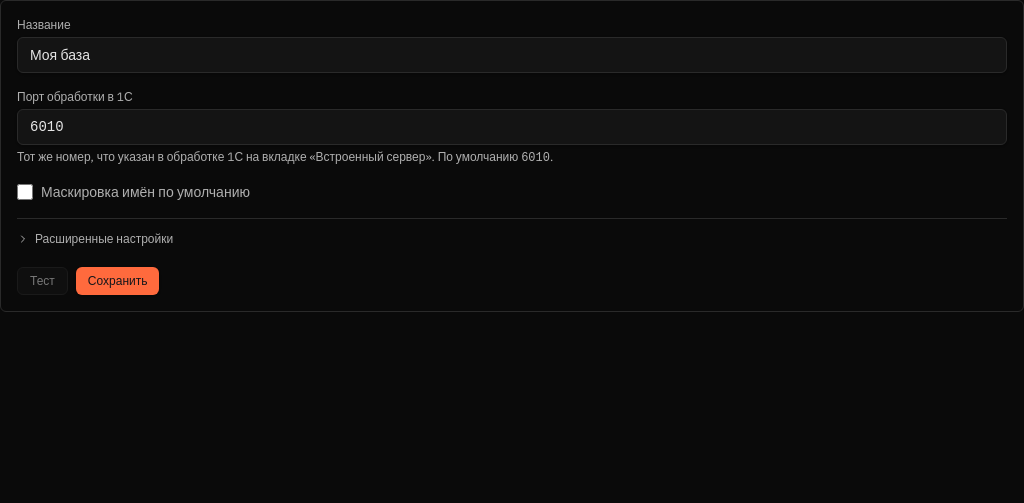
Scenario: MCPConnectionForm › рендерит дефолтную форму с портом 6010 и embedded по умолчанию
Expected: the field with placeholder "Моя база" below "Название" is shown, [17,37,1007,73]
Expected: the field with test id "port-input" holds "6010", [17,109,1007,145]
Click the button "Расширенные настройки": (95, 239) [17,231,173,247]
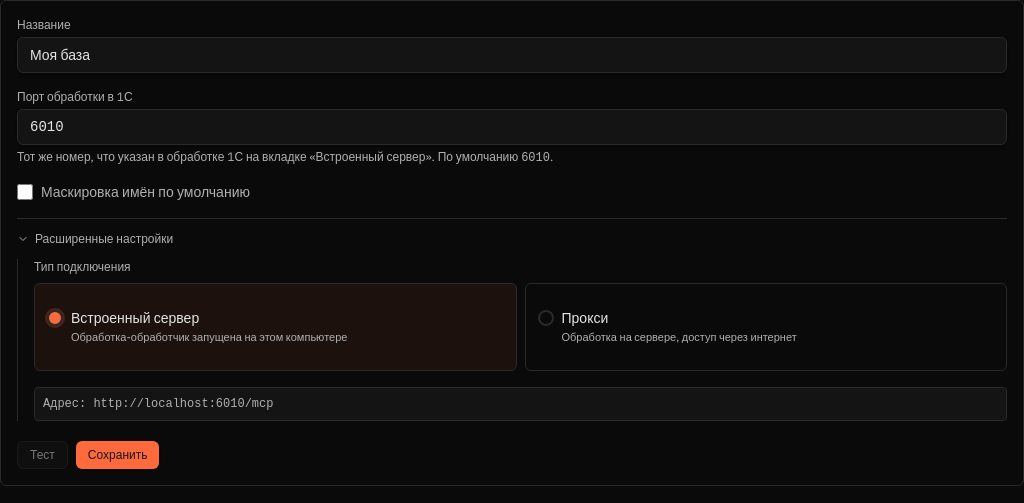
Expected: the text "Адрес: http://localhost:6010/mcp" is shown, [34,387,1007,421]
